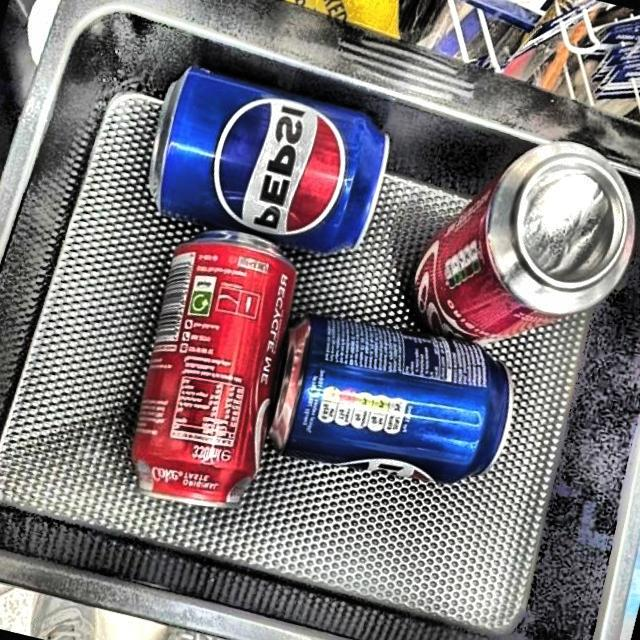coke-can: (133, 232, 297, 517), (408, 148, 630, 340)
pepsi-can: (142, 60, 390, 251), (273, 312, 513, 488)
